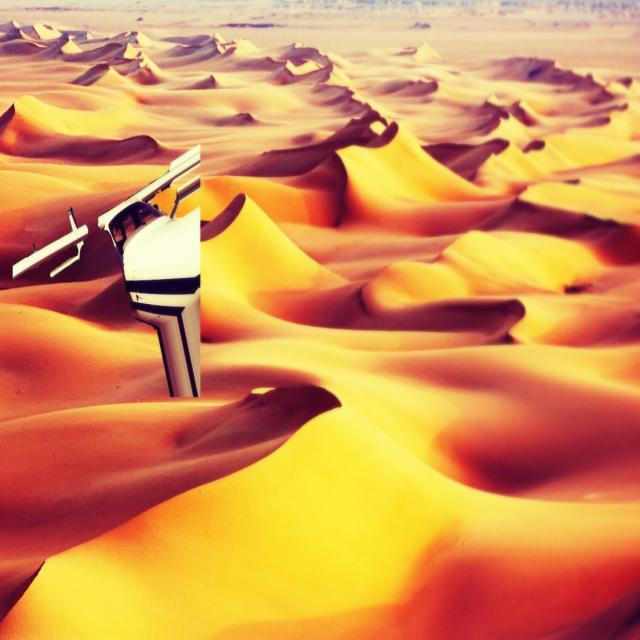airplane: (13, 145, 201, 397)
